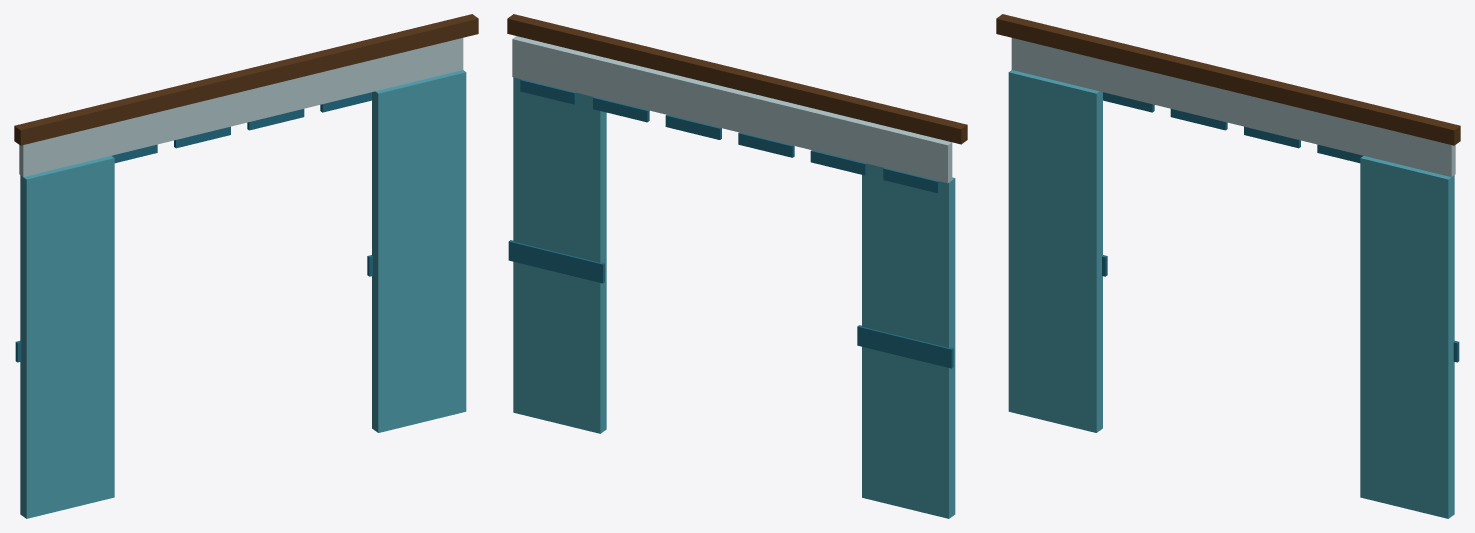
Rendered from ncb-curtains-river.glb.
3 views of the same model, side by side, from view 1: azimuth 30°, elevation 25°; view 2: azimuth 150°, elevation 25°; view 3: azimuth 330°, elevation 25° (orthographic).
Parts seen in each view (by area): view 1: box-prop; view 2: box-prop; view 3: box-prop.
Part boxes in pixels (x1,y1,x2,y2): box-prop: [14, 14, 478, 518]; box-prop: [507, 14, 967, 518]; box-prop: [996, 14, 1460, 518].
Bounding box in the file's own units: 2.5 × 2.05 × 0.11.
